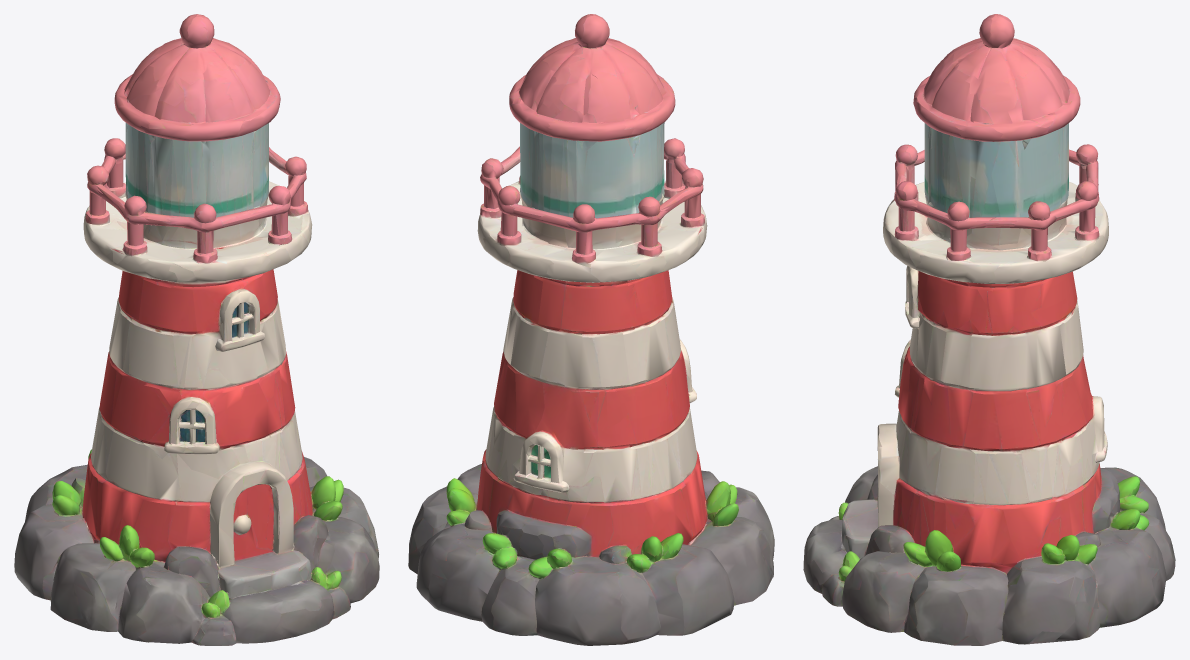
The model's file is hq_lighthouse.glb.
3 views of the same model, side by side, from view 1: azimuth 30°, elevation 25°; view 2: azimuth 150°, elevation 25°; view 3: azimuth 270°, elevation 25° (orthographic).
Size of the model in its own units: 1.11 by 1.9 by 1.15.
1 material, 1 textured.
